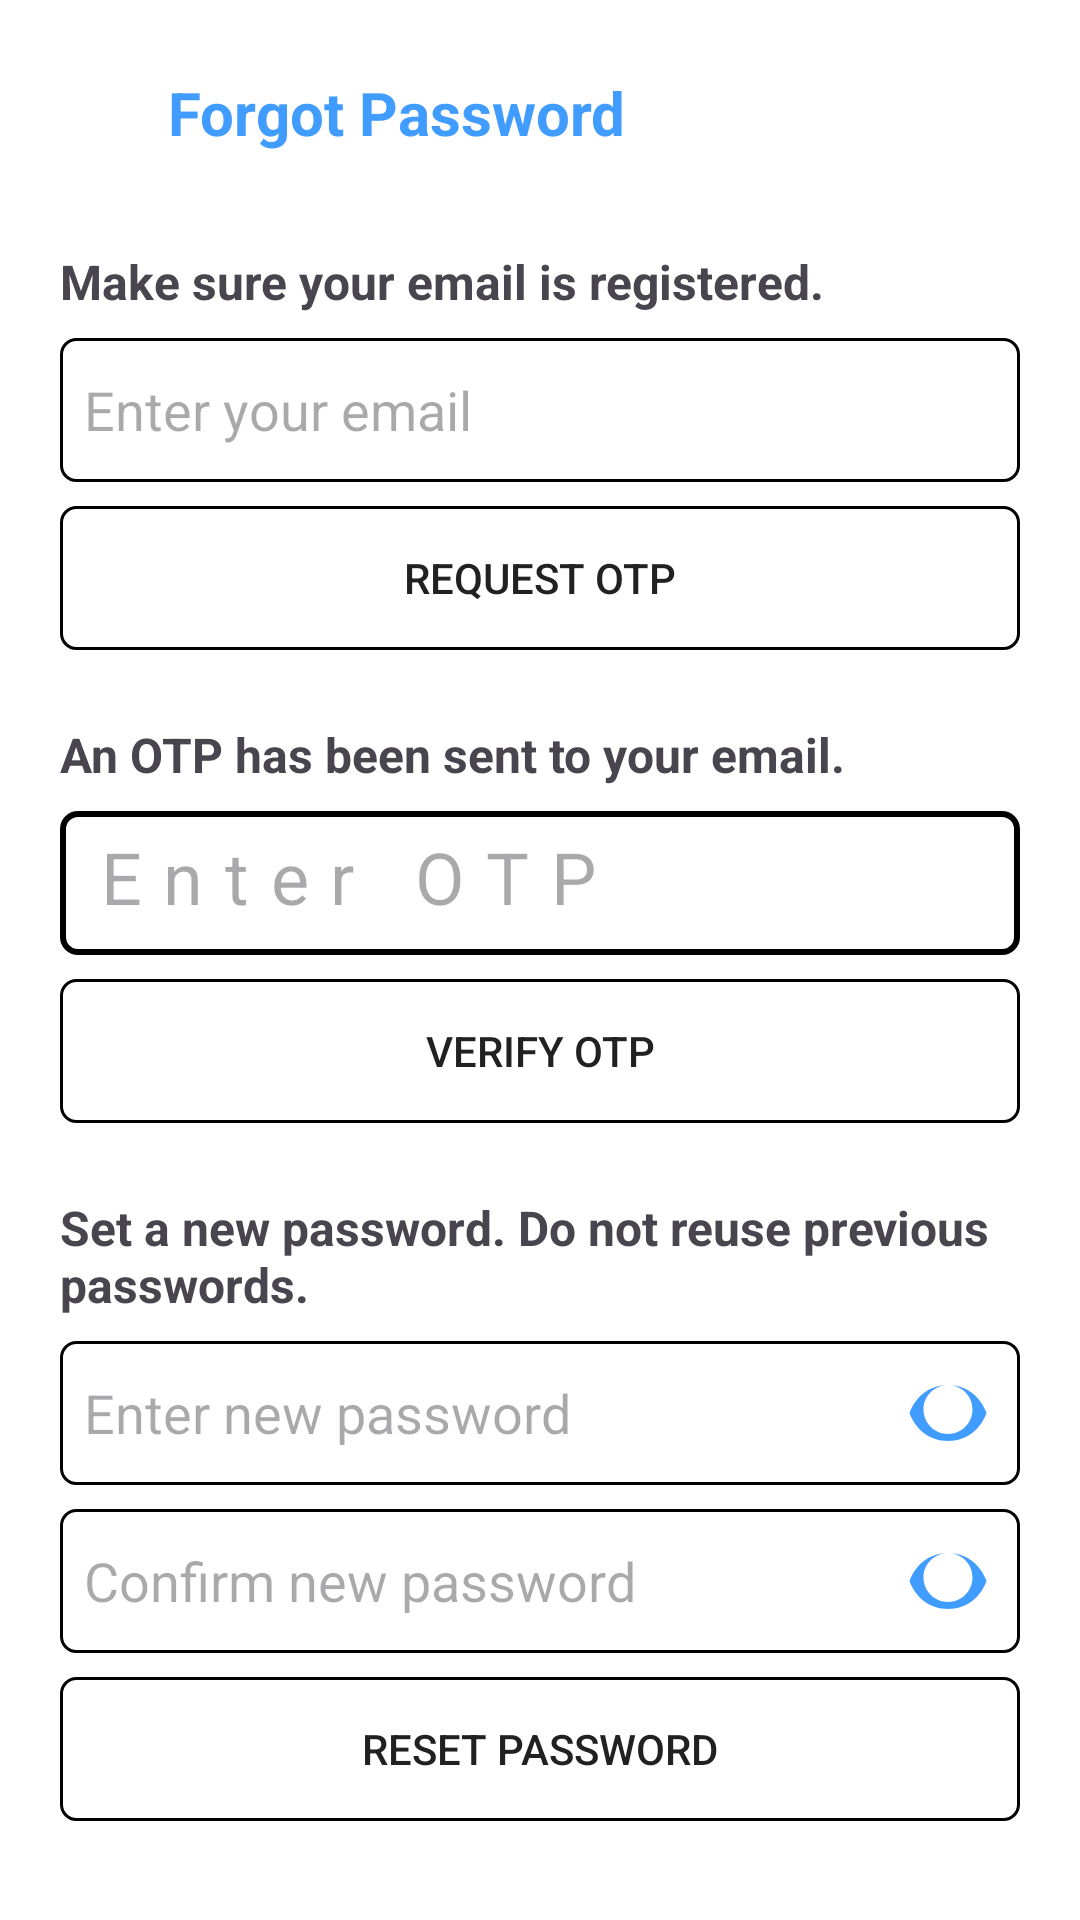

Screen size 1080×1920. Icon name, then its center in pixels as (x=x, y=y):
Toggle confirm password visibility: (x=948, y=1581)
Toggle password visibility: (x=948, y=1413)
